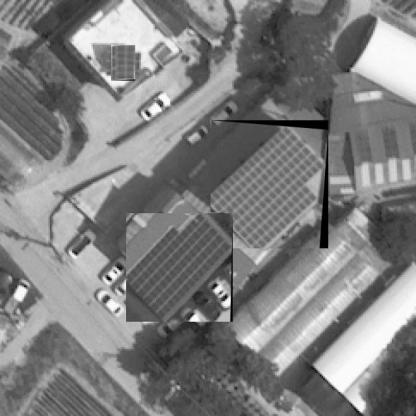solar-pv-panel: (211, 126, 326, 248), (126, 213, 232, 322), (111, 46, 135, 80)
